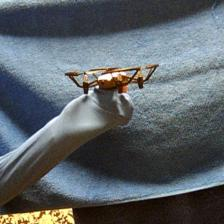drone: (65, 64, 159, 91)
